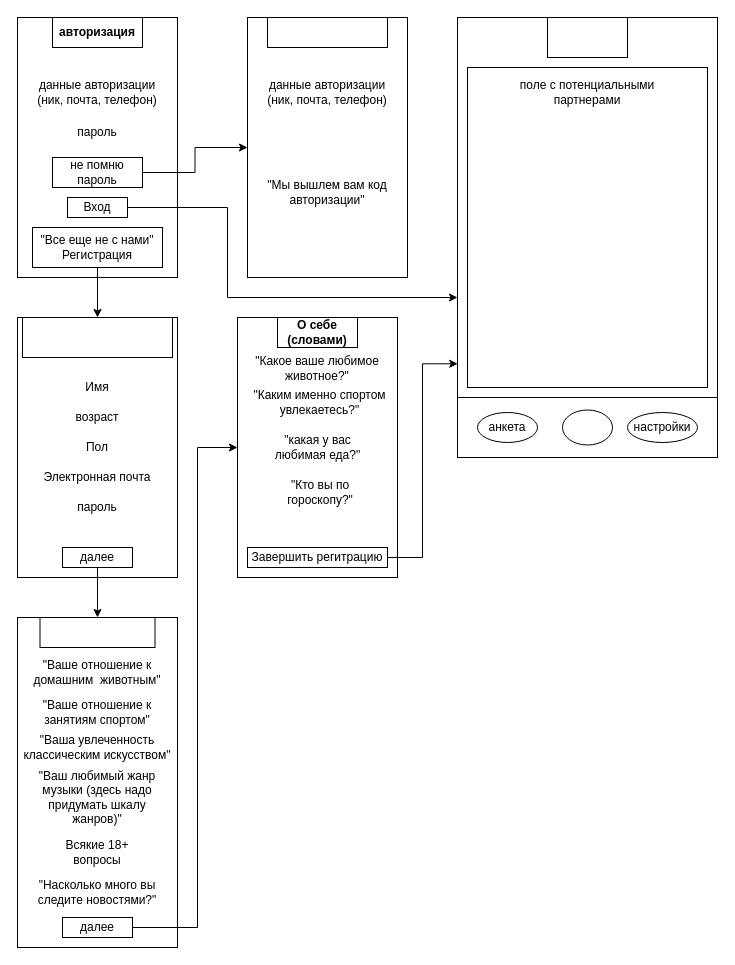
Some shapes in this 735 by 965 pixel diagram are drawn without their labels. Here are the shapes that lost their labels. From the top down, the box of each, then its label:
(266, 16, 388, 48): Восстановление пароля
(546, 16, 628, 58): Главная страница
(22, 316, 172, 358): Регистрация обязательных данных
(562, 409, 612, 445): чаты
(39, 616, 155, 648): О себе (оценками от 1 до 10)
